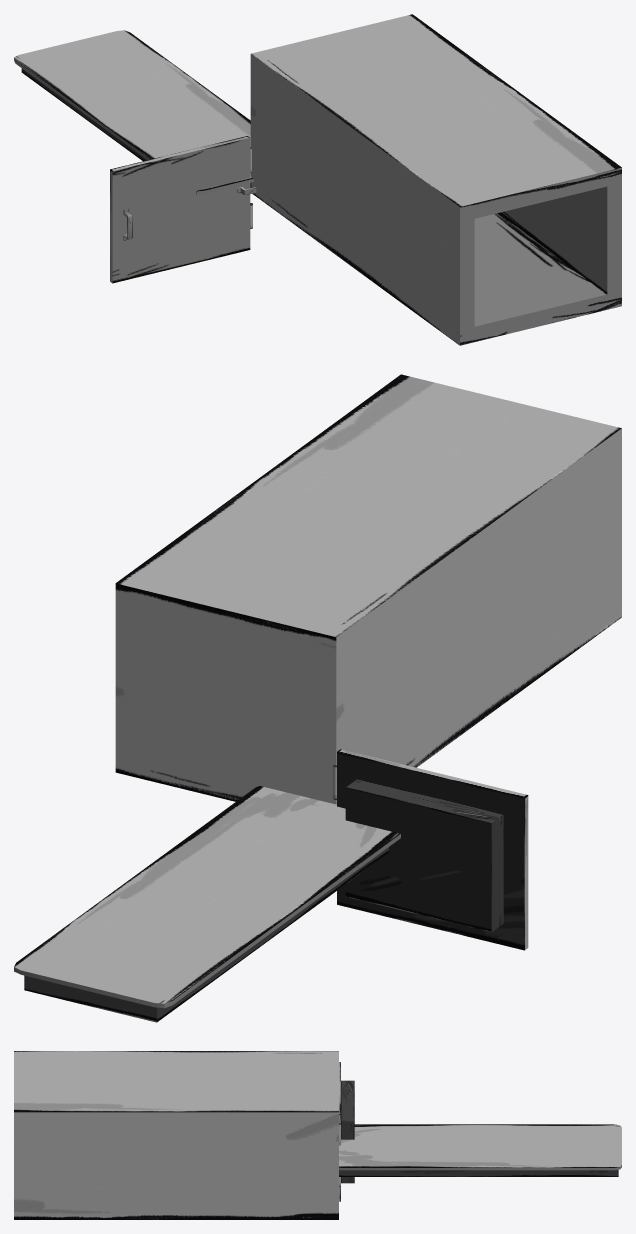
The model's file is SM_Mortuary02.fbx.
The picture shows the model from 3 angles, top to bottom: view 1: azimuth 30°, elevation 25°; view 2: azimuth 150°, elevation 25°; view 3: azimuth 270°, elevation 25°; orthographic projection. The views are drawn at different scales.
Visible parts, largest first — view 1: Mortuary_Chambers, Mortuary_Bed, Mortuary_Door; view 2: Mortuary_Chambers, Mortuary_Bed, Mortuary_Door; view 3: Mortuary_Chambers, Mortuary_Bed, Mortuary_Door.
Boxes of the visible parts, box(x1,y1,x2,y2) form: Mortuary_Chambers: box(250, 14, 621, 345); Mortuary_Bed: box(14, 30, 256, 194); Mortuary_Door: box(110, 136, 252, 283); Mortuary_Chambers: box(115, 374, 621, 804); Mortuary_Bed: box(14, 786, 400, 1022); Mortuary_Door: box(333, 749, 528, 950); Mortuary_Chambers: box(14, 1051, 338, 1219); Mortuary_Bed: box(339, 1124, 621, 1176); Mortuary_Door: box(339, 1062, 354, 1201).
Size of the model in its own units: 197 by 122 by 444.
